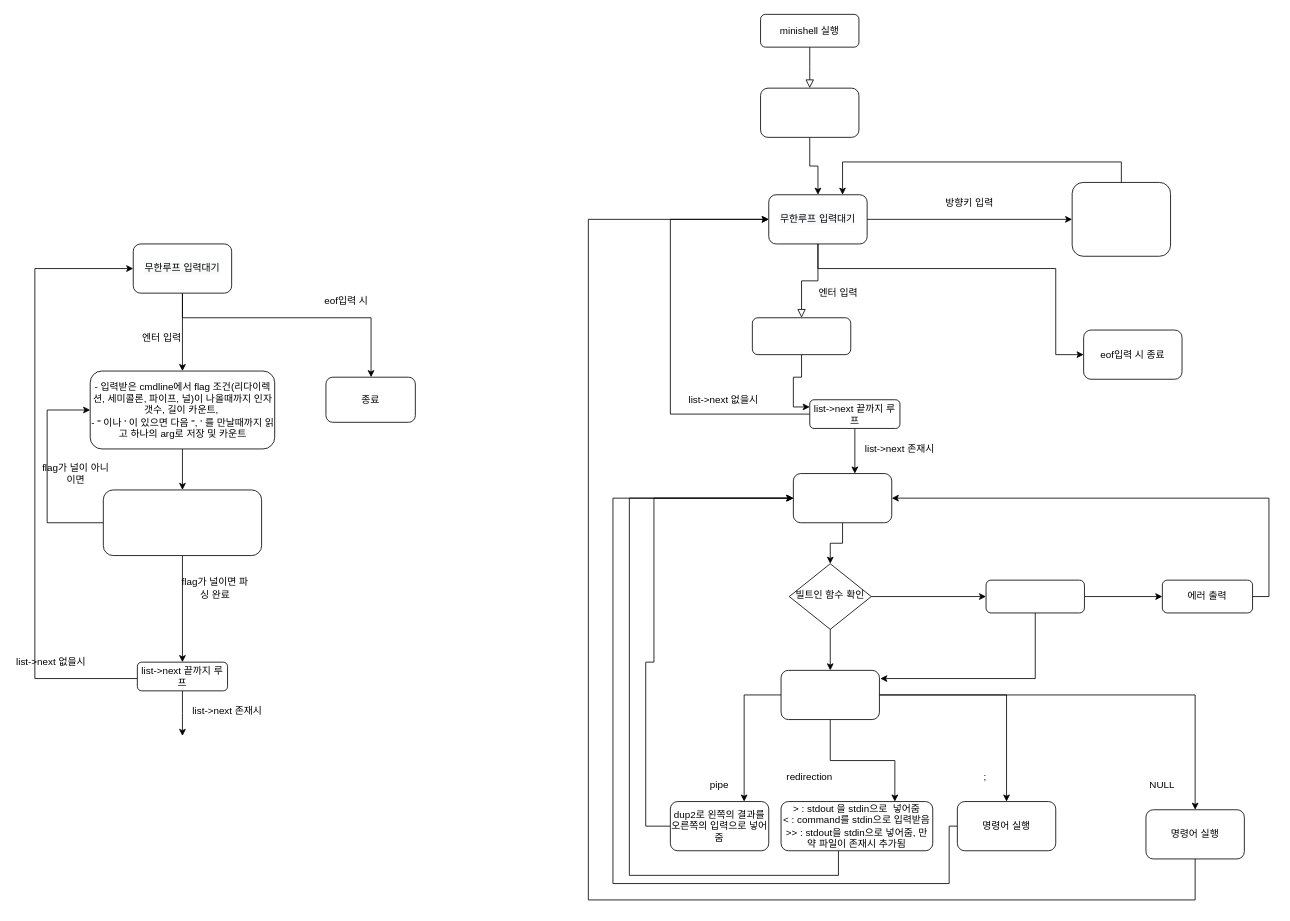
Some shapes in this 1290 by 921 pixel diagram are drawn without their labels. Here are the shapes that lost their labels. From the top down, the centre of each, then its label:
At (809,112): "signal 처리 변수초기화".
At (1121,219): "termcap 으로 좌우 화살표 처리 history list 로 위 아래 방향키 처리".
At (801,336): "데이터 파싱".
At (842,498): "data.flag 확인".
At (182,522): "**arg에 카운트한 인자 갯수와 길이를 이용하여 동적할당한 뒤 값 입력".
At (1034,596): "/bin/ 에 해당하는 명령 있는지 확인".
At (829,695): "fork로 자식프로세서 생성후 실행".
